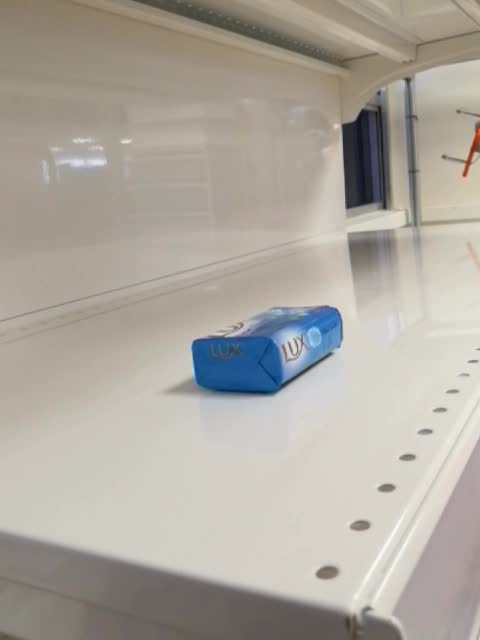soap: (189, 304, 347, 395)
